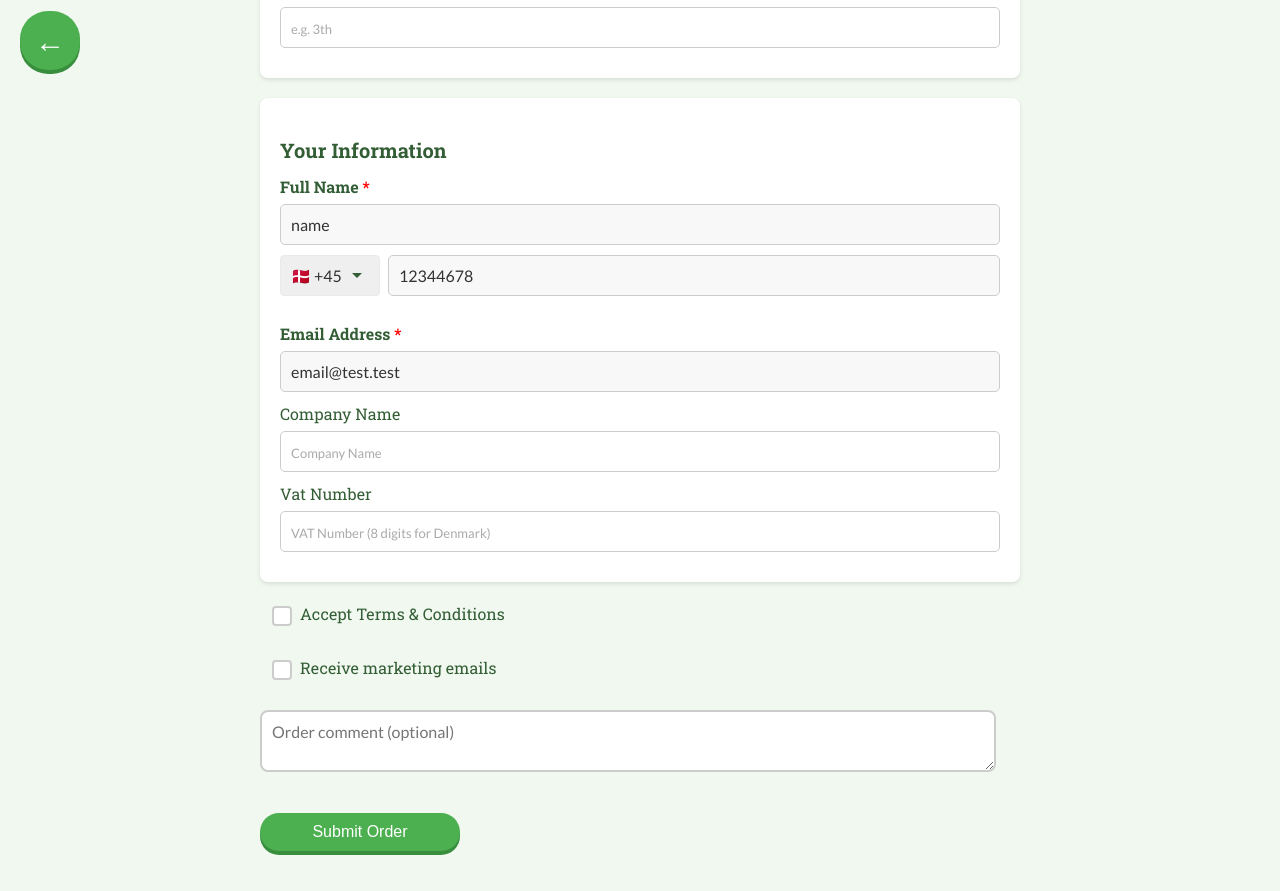
Test: Checkout component › validates form fields correctly (City)
The image size is (1280, 891).
(page scrolled)
Click the button "Submit Order" at coordinates (360, 832), box x1=260 y1=813 x2=460 y2=851
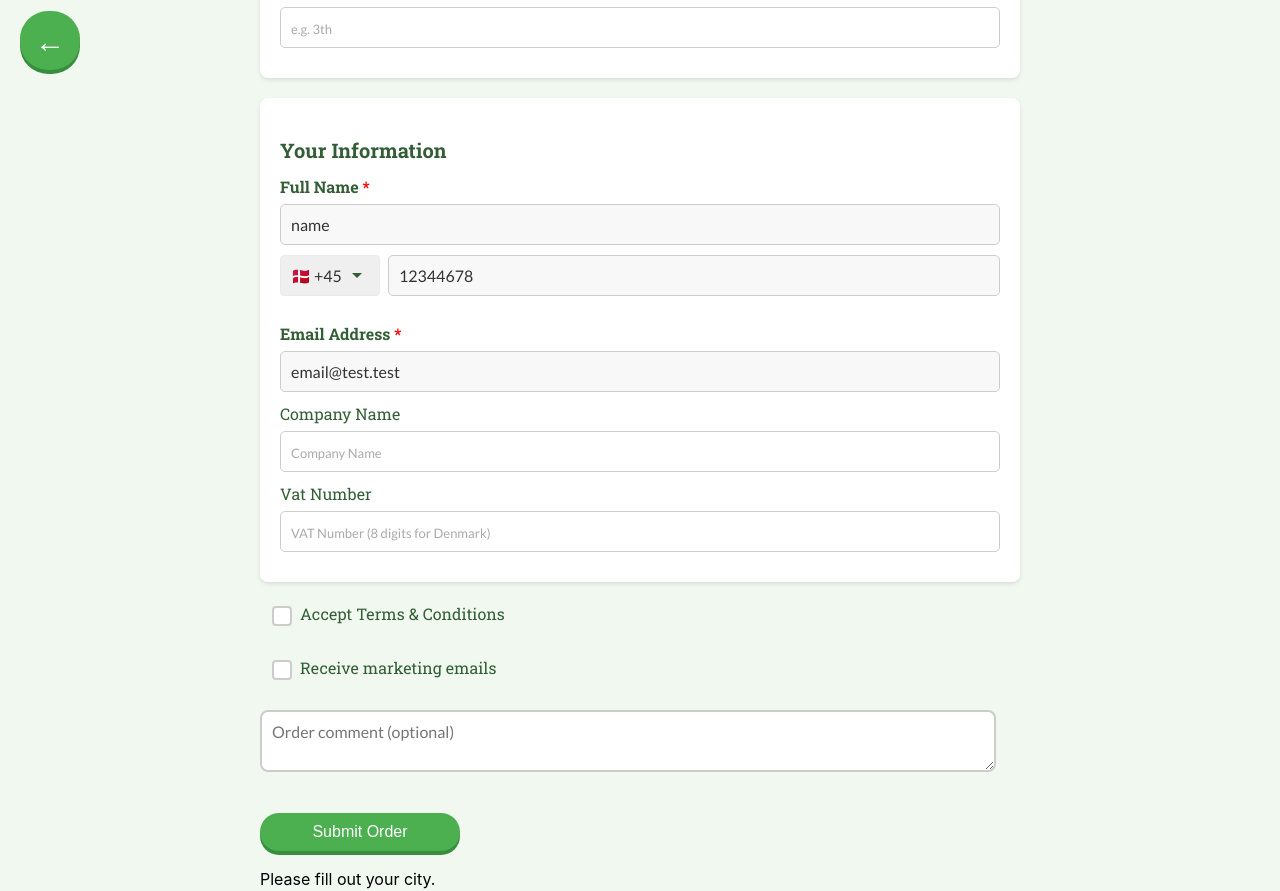
Expected: the text "Please fill out your city." is shown, x1=260 y1=869 x2=435 y2=889
